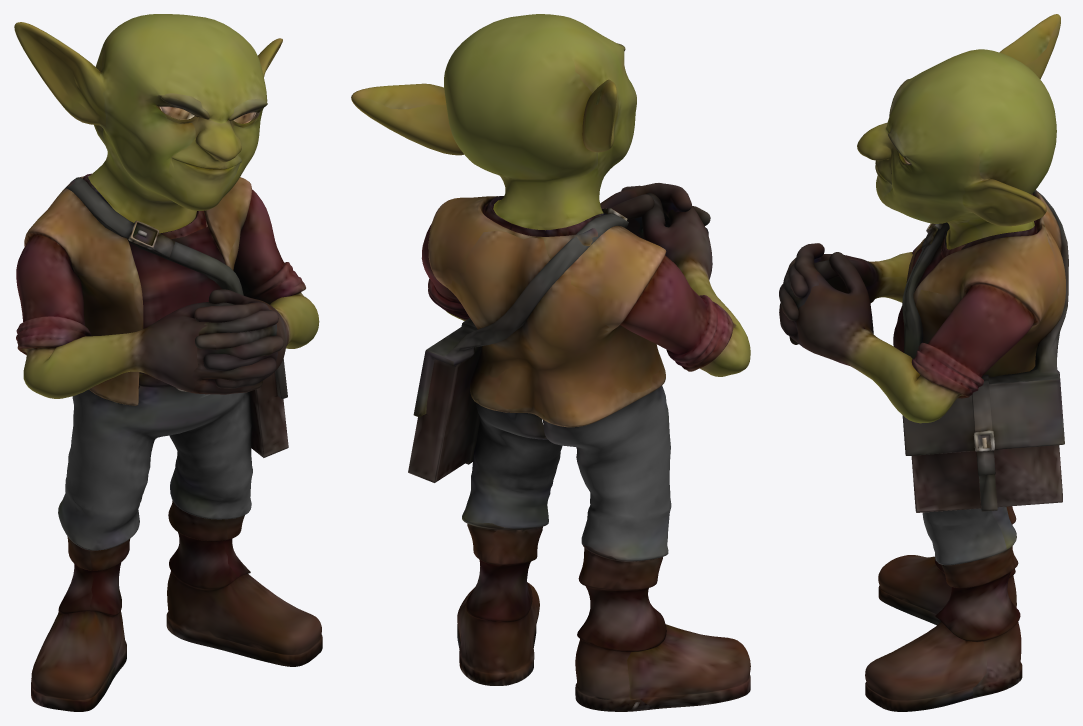
The model's file is MZ4250 - Goblin Merchant.glb.
3 renders of one model, left to right at view 1: azimuth 30°, elevation 25°; view 2: azimuth 150°, elevation 25°; view 3: azimuth 270°, elevation 25°, orthographic. The views are drawn at different scales.
Parts seen in each view (by area): view 1: Goblin Merchant.001; view 2: Goblin Merchant.001; view 3: Goblin Merchant.001.
Boxes of the visible parts, x1,y1,x2,y2 form: Goblin Merchant.001: [14, 14, 322, 711]; Goblin Merchant.001: [351, 14, 750, 711]; Goblin Merchant.001: [779, 14, 1068, 711].
Bounding box in the file's own units: 34.91 × 65.59 × 28.72.
Materials: 1 (1 with a texture image).
